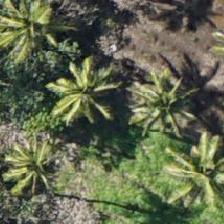coconut_tree: (30, 53, 120, 143), (0, 122, 80, 212), (158, 134, 223, 223), (0, 0, 72, 69)
